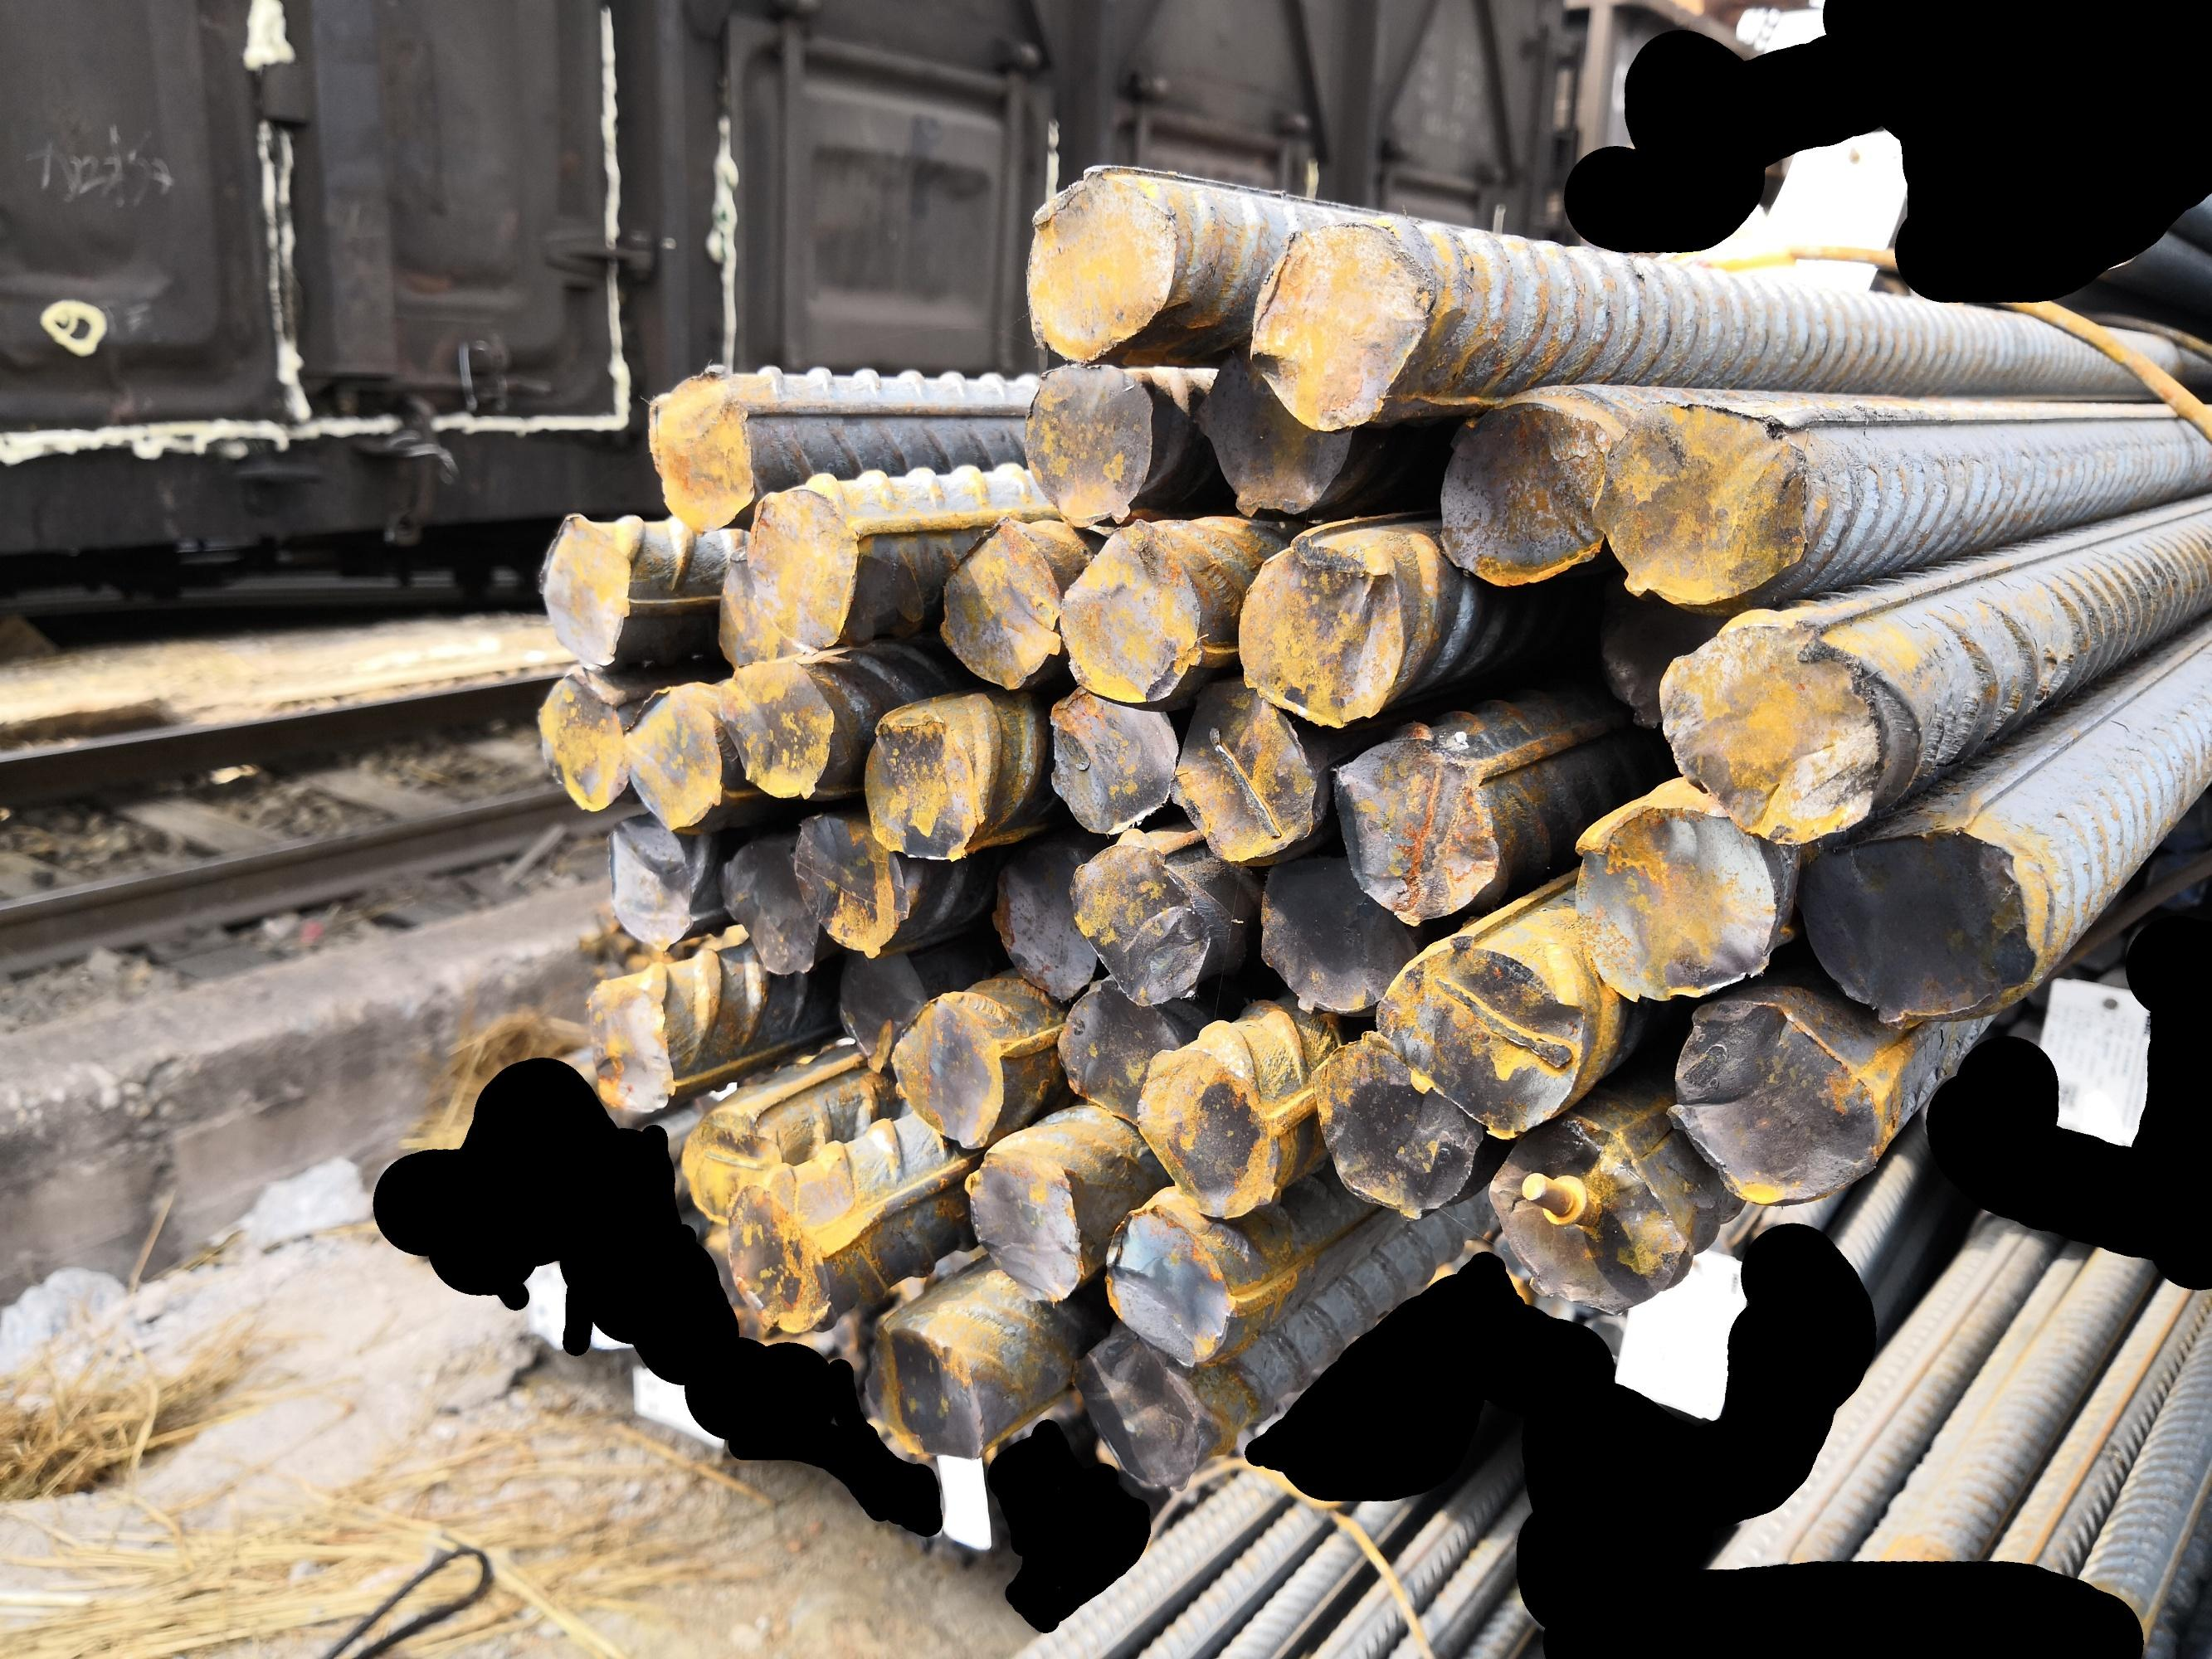bar: (1654, 613, 1884, 845), (1799, 824, 2041, 1028), (1591, 397, 1816, 606), (1666, 997, 1886, 1209), (1374, 932, 1586, 1141), (1569, 802, 1781, 1004), (1246, 216, 1436, 436), (1487, 1115, 1693, 1316), (1232, 525, 1408, 730), (1306, 1028, 1485, 1225), (1328, 730, 1504, 927), (1436, 390, 1612, 587), (1018, 160, 1182, 362), (1168, 676, 1320, 864), (1060, 518, 1208, 704), (1257, 850, 1421, 1018), (1135, 1039, 1283, 1222), (1196, 350, 1356, 516), (1067, 835, 1213, 1006), (1102, 1195, 1241, 1373), (1069, 1326, 1210, 1499), (1020, 361, 1159, 525), (934, 516, 1063, 690), (741, 481, 865, 652), (859, 706, 992, 864), (1044, 683, 1178, 835), (962, 1141, 1084, 1307), (889, 990, 1009, 1152), (645, 361, 757, 535), (1055, 976, 1184, 1126), (861, 1317, 992, 1462), (713, 653, 837, 805), (791, 810, 913, 960), (725, 1180, 837, 1338), (988, 836, 1096, 999), (533, 505, 636, 671), (619, 685, 727, 836), (716, 835, 821, 979), (533, 664, 629, 812), (582, 976, 683, 1115), (711, 540, 812, 671), (605, 814, 695, 955), (680, 1105, 786, 1225), (833, 946, 931, 1075)
